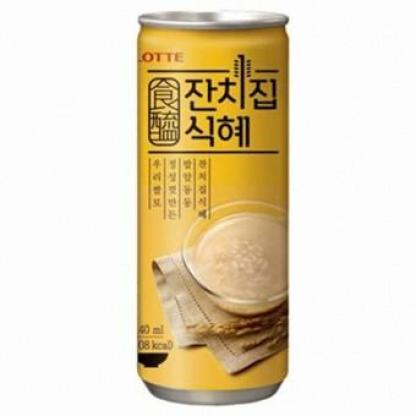alumunium_can: (131, 0, 305, 416)
